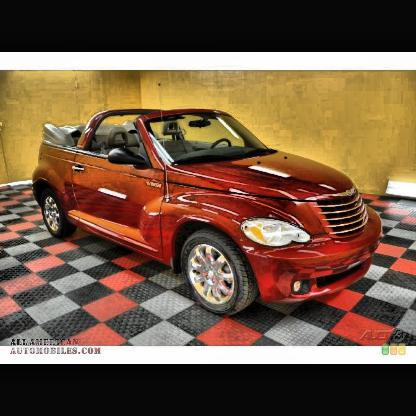Chrysler PT Cruiser Convertible 2008: (34, 109, 385, 315)
